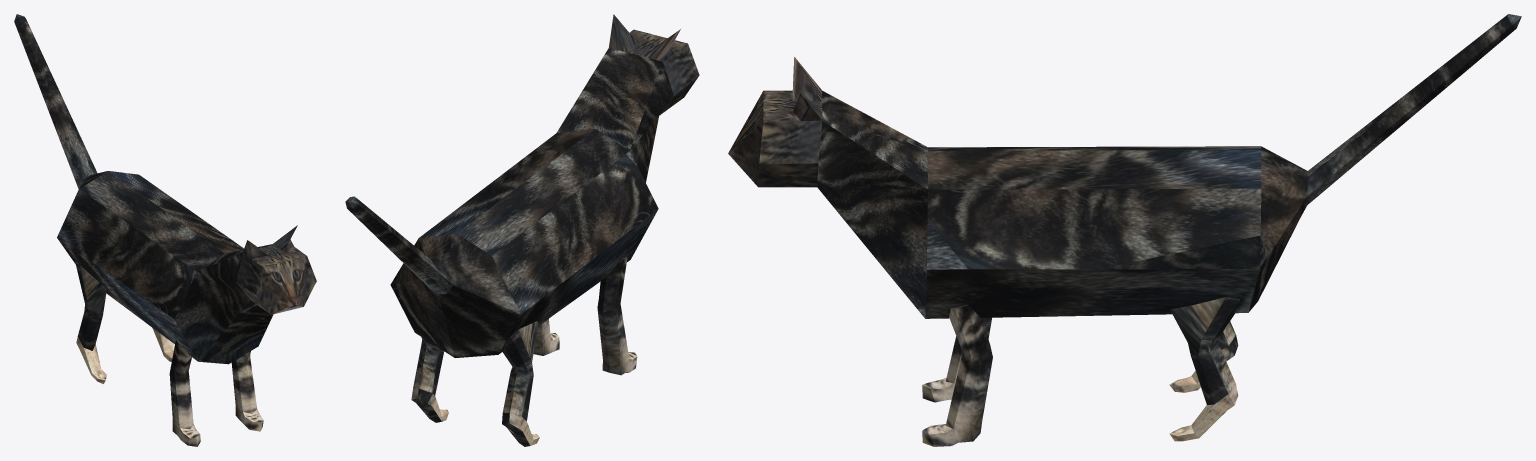
File: CAT.fbx
3 views of the same model, side by side, from view 1: azimuth 30°, elevation 25°; view 2: azimuth 150°, elevation 25°; view 3: azimuth 270°, elevation 25° (orthographic). The views are drawn at different scales.
Parts seen in each view (by area): view 1: Body, LegBR, LefFR, LefFL, LegBL; view 2: Body, LegBR, LefFR, LegBL, LefFL; view 3: Body, LegBL, LefFL, LefFR, LegBR.
Boxes of the visible parts, box(x1,y1,x2,y2) form: Body: box(14, 14, 316, 364); LegBR: box(76, 264, 106, 383); LefFR: box(169, 339, 200, 446); LefFL: box(231, 351, 263, 431); LegBL: box(152, 328, 174, 361); Body: box(345, 14, 699, 357); LegBR: box(502, 321, 539, 446); LefFR: box(597, 257, 637, 375); LegBL: box(411, 337, 448, 422); LefFL: box(533, 319, 559, 355); Body: box(728, 14, 1521, 318); LegBL: box(1169, 297, 1239, 441); LefFL: box(922, 305, 992, 446); LefFR: box(922, 317, 991, 402); LegBR: box(1169, 321, 1238, 392).
Bounding box in the file's own units: 0.1474 × 0.3595 × 0.6415.
Materials: 3 (3 with a texture image).
